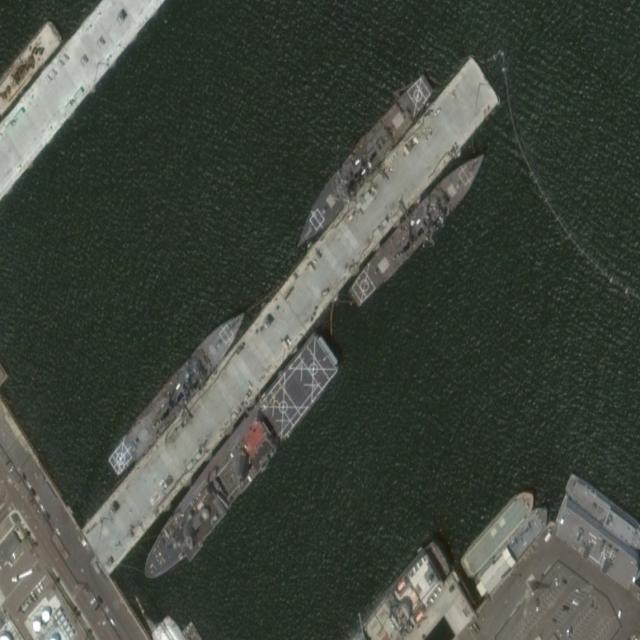Auxiliary Ships: (131, 326, 346, 599)
Destroyer: (287, 67, 437, 257), (103, 300, 255, 482), (345, 137, 494, 314)
